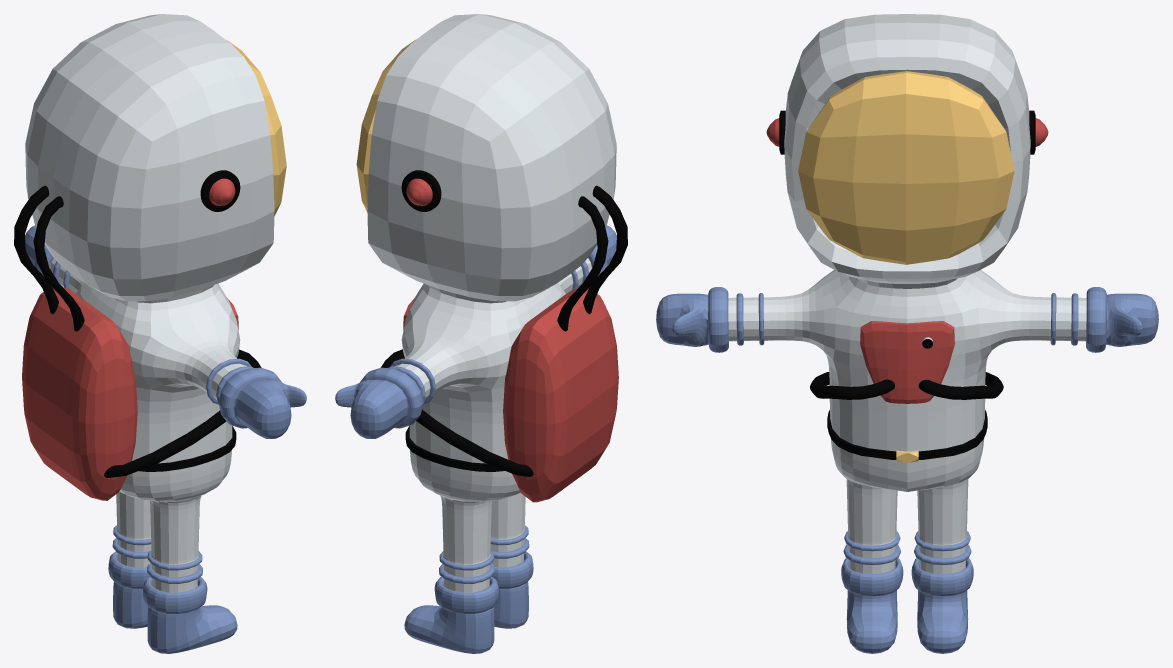
The model's file is baptiste couleur.fbx.
3 views of the same model, side by side, from view 1: azimuth 30°, elevation 25°; view 2: azimuth 150°, elevation 25°; view 3: azimuth 270°, elevation 25° (orthographic). The views are drawn at different scales.
Parts seen in each view (by area): view 1: Cylinder.004; view 2: Cylinder.004; view 3: Cylinder.004.
Boxes of the visible parts, left/top/right/bottom form: Cylinder.004: left=14, top=14, right=306, bottom=653; Cylinder.004: left=335, top=14, right=627, bottom=653; Cylinder.004: left=656, top=14, right=1158, bottom=653.
Bounding box in the file's own units: 492 × 1228 × 919.
Materials: 1 (1 with a texture image).
